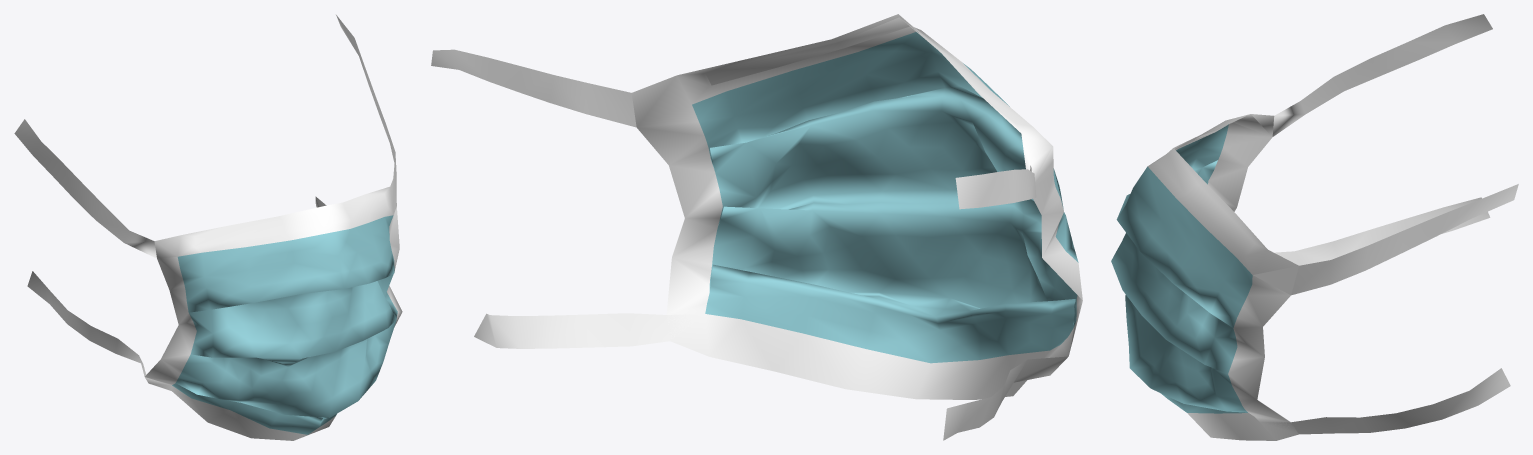
Rendered from mascarilla.glb.
The picture shows the model from 3 angles, left to right: view 1: azimuth 30°, elevation 25°; view 2: azimuth 150°, elevation 25°; view 3: azimuth 270°, elevation 25°; orthographic projection. The views are drawn at different scales.
Visible parts, largest first — view 1: Object_4, Object_3; view 2: Object_4, Object_3; view 3: Object_3, Object_4.
Boxes of the visible parts, left/top/right/bottom form: Object_4: left=172, top=215, right=397, bottom=434; Object_3: left=14, top=15, right=402, bottom=440; Object_4: left=692, top=31, right=1078, bottom=363; Object_3: left=431, top=14, right=1082, bottom=440; Object_3: left=1147, top=14, right=1518, bottom=440; Object_4: left=1111, top=124, right=1252, bottom=413.
Size of the model in its own units: 1.46 by 1.18 by 1.31.
